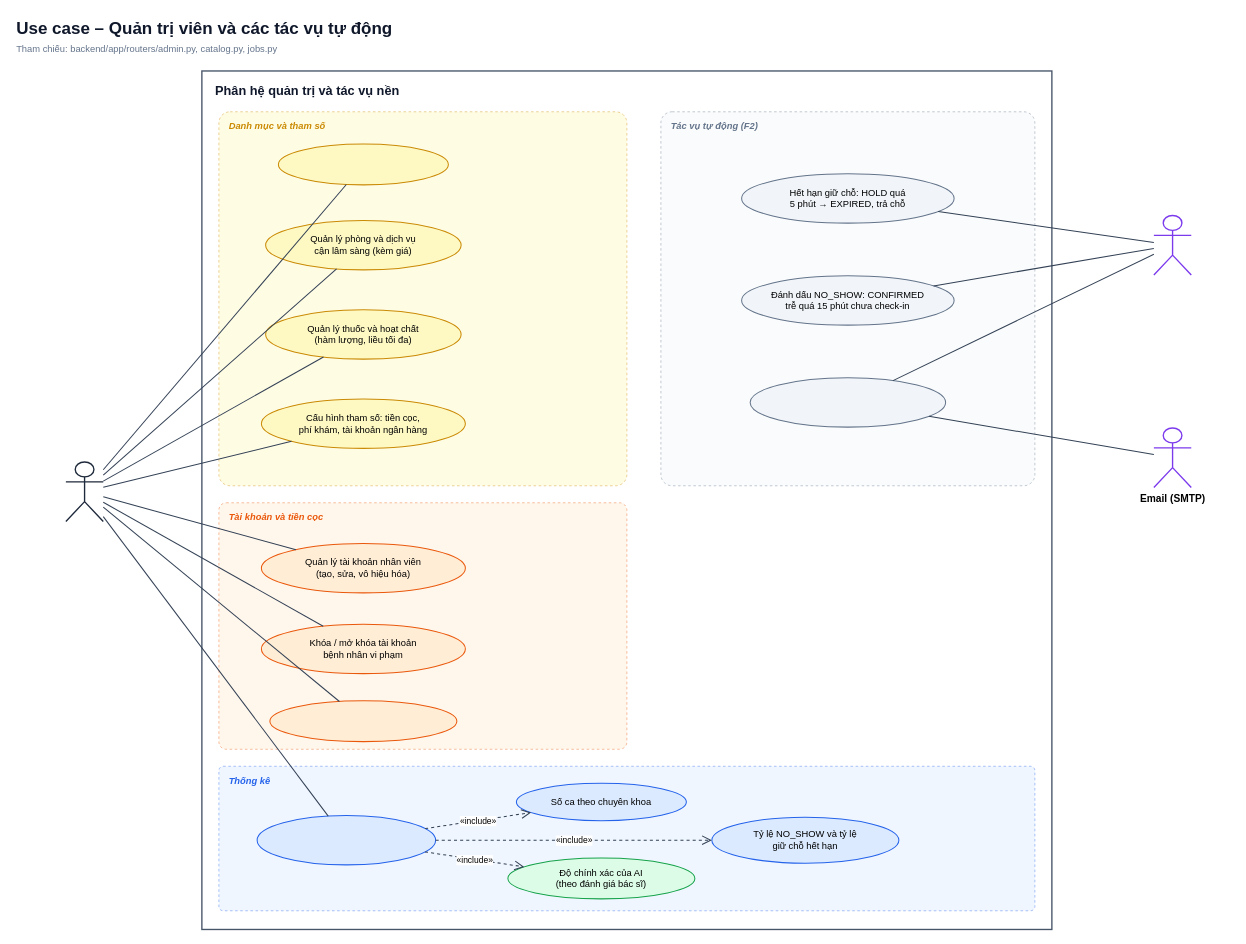
The diagram is 1246 pixels wide and 944 high, and some of its shapes have lost their labels. Each missing label, with the centre of its shape:
Bộ lập lịch (APScheduler, mỗi phút): [1172,244]
Gửi email nhắc tái khám trước ngày hẹn 1 ngày: [847,402]
Quản lý chuyên khoa: [362,164]
Quản trị viên: [84,491]
Xem thống kê theo tuần hoặc tháng: [346,840]
Xử lý hoàn cọc (đánh dấu REFUNDED): [363,721]
